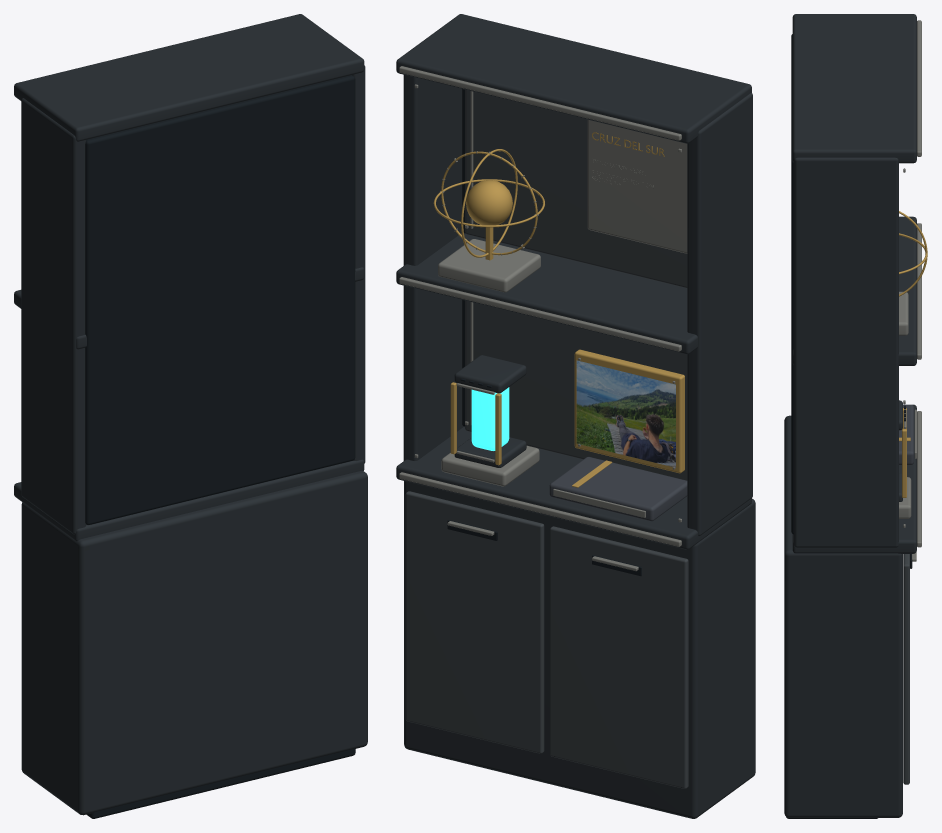
Rendered from cruz-del-sur-port-display.glb.
3 views of the same model, side by side, from view 1: azimuth 30°, elevation 25°; view 2: azimuth 150°, elevation 25°; view 3: azimuth 270°, elevation 25° (orthographic). The views are drawn at different scales.
Parts seen in each view (by area): view 1: PORT_static_TRANSITION_PBR_GALLEY_POLISH_Graphite_ceramic_co, PORT_static_TRANSITION_PBR_CEILING_POLISH_Matte_recessed_gas; view 2: PORT_static_TRANSITION_PBR_GALLEY_POLISH_Graphite_ceramic_co, PORT_static_TRANSITION_PBR_PORT_FINISH_Satin_graphite_panels, PORT_static_TRANSITION_PBR_CEILING_FINISH_Brushed_edge_alloy, PORT_static_TRANSITION_PBR_SHELVES_Medal_satin_brass, PORT_static_TRANSITION_PBR_SHELVES_Personal_photograph_1, PORT_static_TRANSITION_PBR_CEILING_FINISH_Satin_charcoal_tit, PORT_static_TRANSITION_PBR_CEILING_POLISH_Small_cyan_status_, PORT_static_TRANSITION_PBR_CEILING_POLISH_Matte_recessed_gas; view 3: PORT_static_TRANSITION_PBR_GALLEY_POLISH_Graphite_ceramic_co, PORT_static_TRANSITION_PBR_CEILING_FINISH_Brushed_edge_alloy, PORT_static_TRANSITION_PBR_PORT_FINISH_Satin_graphite_panels, PORT_static_TRANSITION_PBR_CEILING_POLISH_Matte_recessed_gas, PORT_static_TRANSITION_PBR_SHELVES_Medal_satin_brass, PORT_static_TRANSITION_PBR_CEILING_FINISH_Satin_charcoal_tit.
Boxes of the visible parts, box(x1,y1,x2,y2) form: PORT_static_TRANSITION_PBR_GALLEY_POLISH_Graphite_ceramic_co: box(14, 14, 367, 815); PORT_static_TRANSITION_PBR_CEILING_POLISH_Matte_recessed_gas: box(85, 75, 355, 818); PORT_static_TRANSITION_PBR_GALLEY_POLISH_Graphite_ceramic_co: box(396, 14, 755, 818); PORT_static_TRANSITION_PBR_PORT_FINISH_Satin_graphite_panels: box(405, 89, 688, 788); PORT_static_TRANSITION_PBR_CEILING_FINISH_Brushed_edge_alloy: box(399, 66, 687, 571); PORT_static_TRANSITION_PBR_SHELVES_Medal_satin_brass: box(433, 132, 684, 487); PORT_static_TRANSITION_PBR_SHELVES_Personal_photograph_1: box(576, 360, 675, 467); PORT_static_TRANSITION_PBR_CEILING_FINISH_Satin_charcoal_tit: box(549, 457, 687, 521); PORT_static_TRANSITION_PBR_CEILING_POLISH_Small_cyan_status_: box(471, 387, 509, 450); PORT_static_TRANSITION_PBR_CEILING_POLISH_Matte_recessed_gas: box(447, 89, 641, 576); PORT_static_TRANSITION_PBR_GALLEY_POLISH_Graphite_ceramic_co: box(784, 14, 916, 817); PORT_static_TRANSITION_PBR_CEILING_FINISH_Brushed_edge_alloy: box(899, 20, 921, 561); PORT_static_TRANSITION_PBR_PORT_FINISH_Satin_graphite_panels: box(903, 554, 909, 784); PORT_static_TRANSITION_PBR_CEILING_POLISH_Matte_recessed_gas: box(786, 34, 912, 818); PORT_static_TRANSITION_PBR_SHELVES_Medal_satin_brass: box(899, 211, 927, 497); PORT_static_TRANSITION_PBR_CEILING_FINISH_Satin_charcoal_tit: box(899, 404, 913, 464).
Bounding box in the file's own units: 1.2 × 2.7 × 0.519.
Materials: 10 (5 with a texture image).
